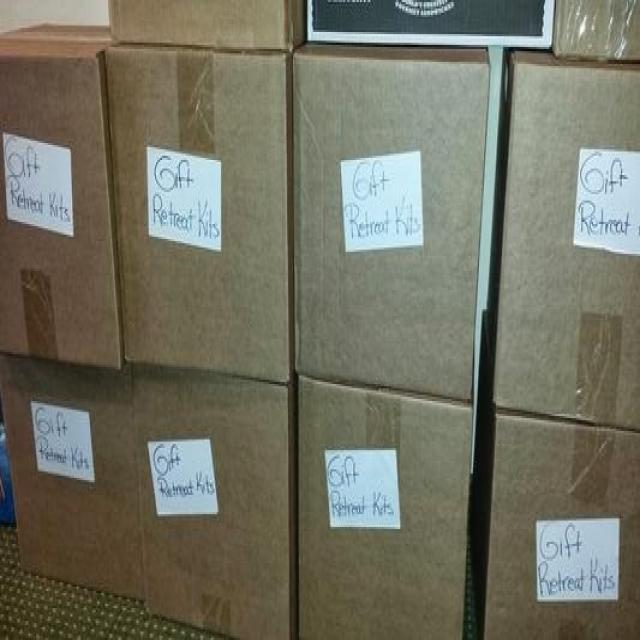box: (292, 43, 490, 401), (105, 42, 292, 386), (485, 46, 639, 433), (471, 311, 638, 638), (295, 379, 471, 637), (132, 366, 290, 638), (1, 22, 121, 372), (0, 355, 143, 608), (307, 3, 556, 48), (108, 1, 309, 52), (552, 2, 639, 59)
